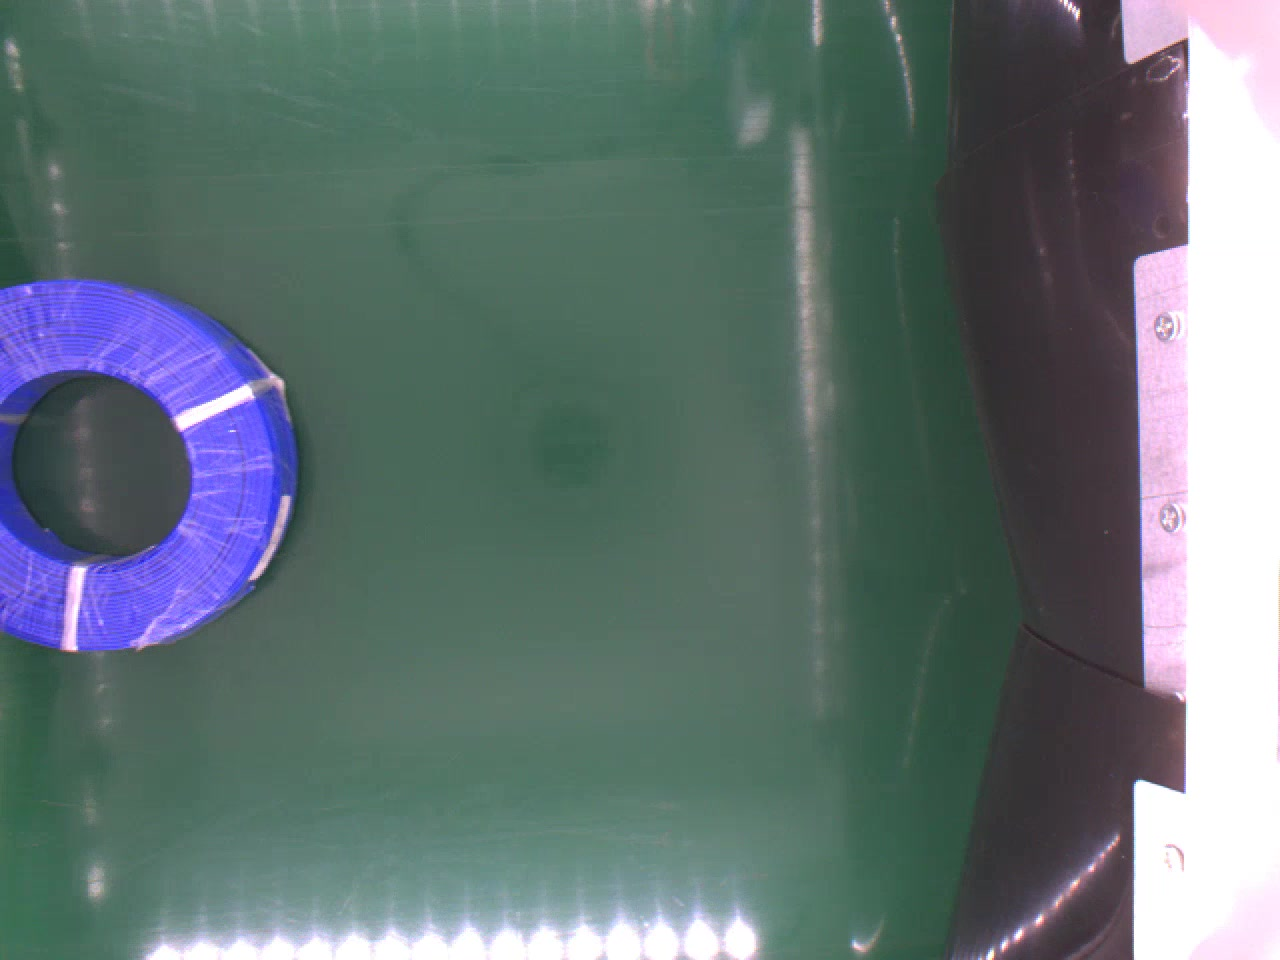blue: (0, 278, 304, 647)
